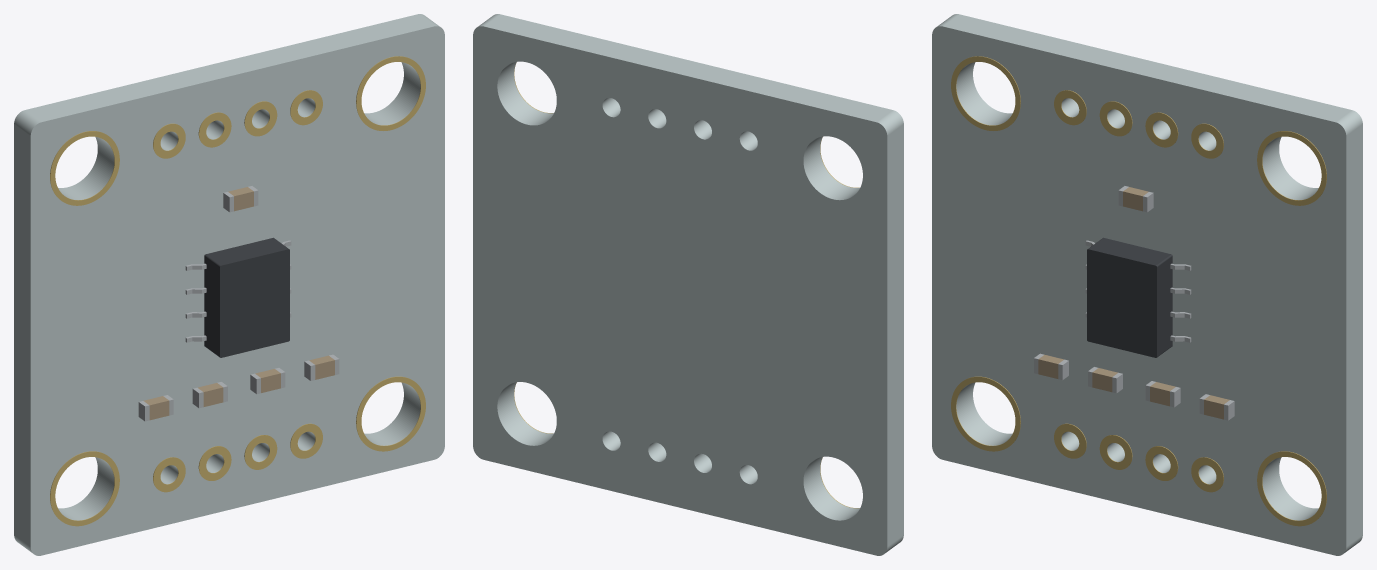
The picture shows the model from 3 angles, left to right: view 1: azimuth 30°, elevation 25°; view 2: azimuth 150°, elevation 25°; view 3: azimuth 330°, elevation 25°; orthographic projection.
Visible parts, largest first — view 1: pcb_0, as5600_package_0, mounting_hole_annuli_2, mounting_hole_annuli_0, mounting_hole_annuli_3, mounting_hole_annuli_1, top_plated_pads_0, top_plated_pads_3, top_plated_pads_5, top_plated_pads_6, top_plated_pads_4, top_plated_pads_1 (+2 smaller); view 2: pcb_0; view 3: pcb_0, as5600_package_0, mounting_hole_annuli_0, mounting_hole_annuli_2, mounting_hole_annuli_1, mounting_hole_annuli_3, top_plated_pads_0, top_plated_pads_3, top_plated_pads_6, top_plated_pads_5, top_plated_pads_7, top_plated_pads_1 (+2 smaller).
Part boxes in pixels (x1=…): pcb_0: x1=14, y1=14, x2=444, y2=555; as5600_package_0: x1=204, y1=237, x2=289, y2=357; mounting_hole_annuli_2: x1=356, y1=376, x2=425, y2=451; mounting_hole_annuli_0: x1=50, y1=451, x2=119, y2=526; mounting_hole_annuli_3: x1=356, y1=56, x2=425, y2=130; mounting_hole_annuli_1: x1=50, y1=131, x2=119, y2=205; top_plated_pads_0: x1=153, y1=457, x2=185, y2=492; top_plated_pads_3: x1=290, y1=423, x2=322, y2=458; top_plated_pads_5: x1=198, y1=112, x2=231, y2=147; top_plated_pads_6: x1=244, y1=101, x2=277, y2=136; top_plated_pads_4: x1=153, y1=123, x2=185, y2=158; top_plated_pads_1: x1=198, y1=446, x2=231, y2=480; pcb_0: x1=473, y1=14, x2=903, y2=555; pcb_0: x1=932, y1=14, x2=1362, y2=555; as5600_package_0: x1=1087, y1=237, x2=1172, y2=357; mounting_hole_annuli_0: x1=951, y1=376, x2=1020, y2=451; mounting_hole_annuli_2: x1=1257, y1=451, x2=1326, y2=526; mounting_hole_annuli_1: x1=951, y1=56, x2=1020, y2=130; mounting_hole_annuli_3: x1=1257, y1=131, x2=1326, y2=205; top_plated_pads_0: x1=1054, y1=423, x2=1086, y2=458; top_plated_pads_3: x1=1191, y1=457, x2=1223, y2=492; top_plated_pads_6: x1=1145, y1=112, x2=1178, y2=147; top_plated_pads_5: x1=1099, y1=101, x2=1132, y2=136; top_plated_pads_7: x1=1191, y1=123, x2=1223, y2=158; top_plated_pads_1: x1=1099, y1=435, x2=1132, y2=469.
Size of the model in its own units: 0.023 by 0.023 by 0.00325.
